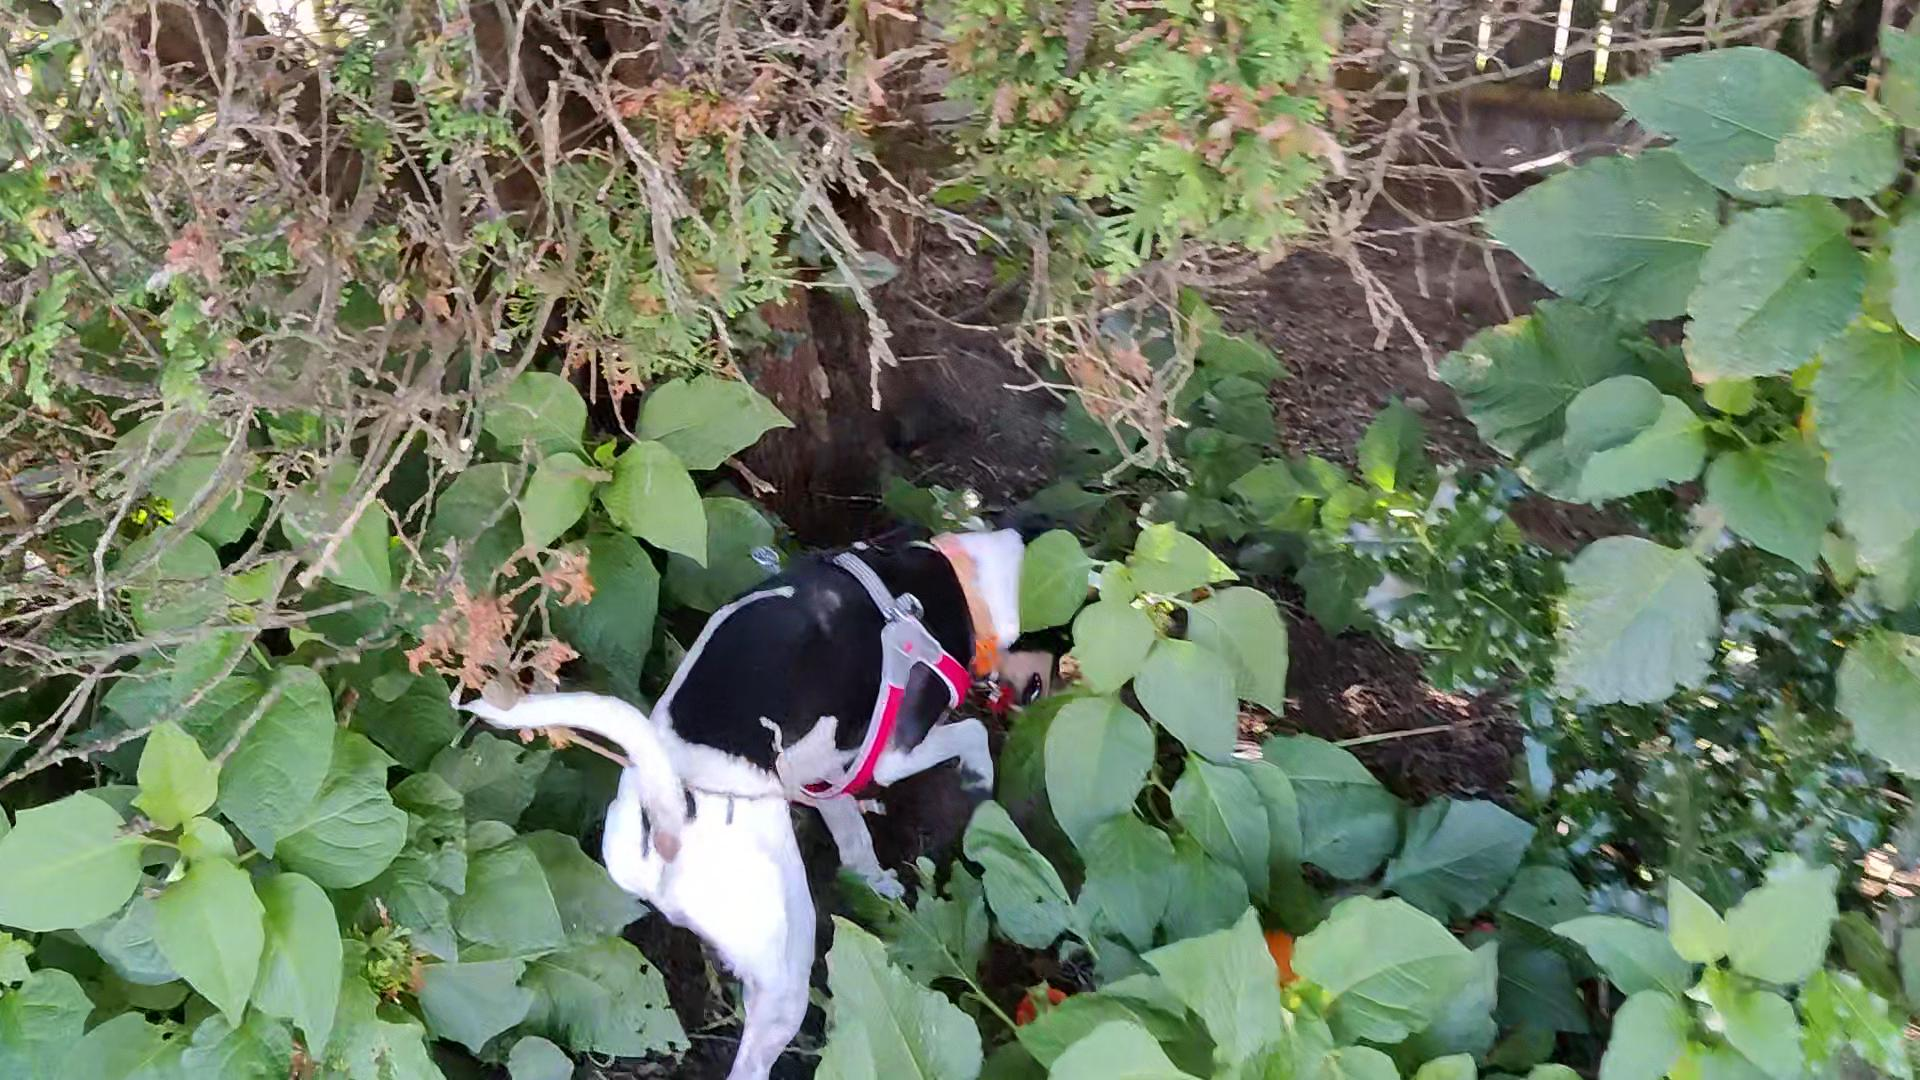Dog: (436, 476, 1112, 1079)
